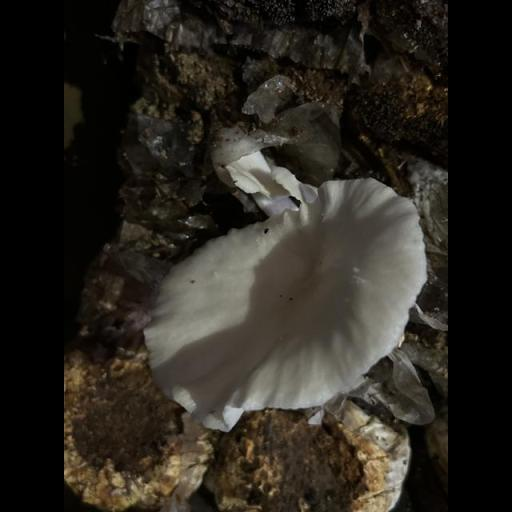White Oyster Mushroom: (140, 161, 433, 448)
